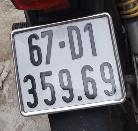1: (84, 21, 101, 61)
3: (18, 71, 39, 112)
5: (39, 71, 57, 106)
6: (79, 62, 99, 103), (26, 31, 44, 70)
7: (41, 29, 56, 66)
9: (57, 66, 75, 104), (101, 62, 118, 100)
D: (65, 22, 85, 62)
